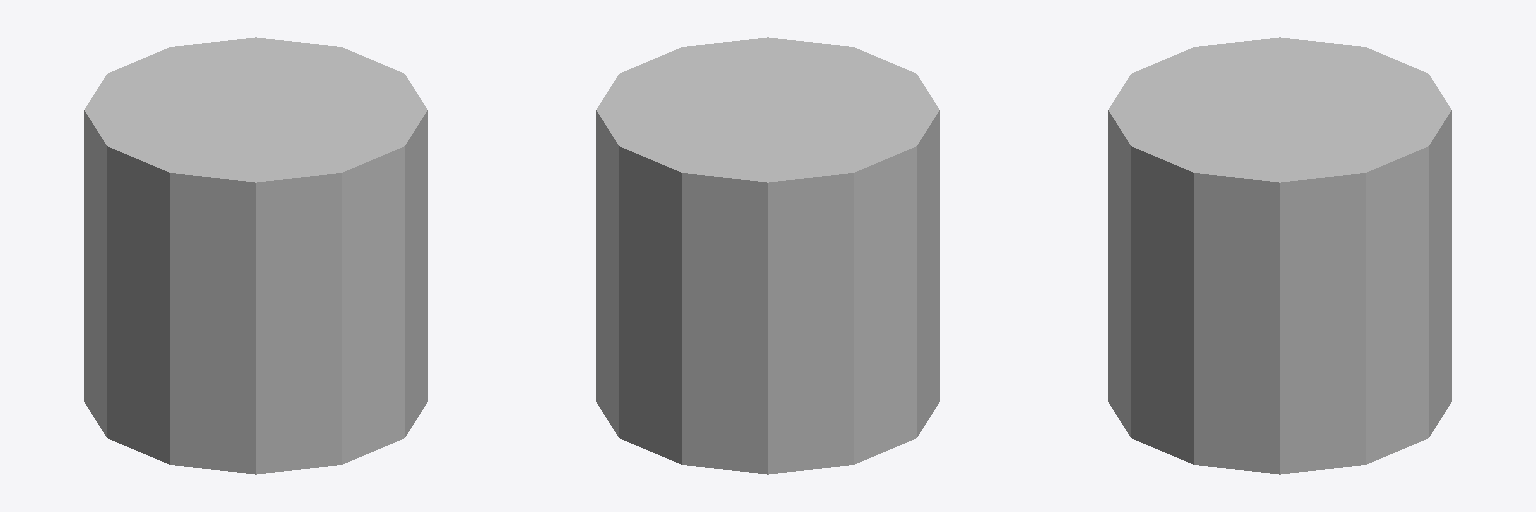
File: Marshmellow.obj
The picture shows the model from 3 angles: view 1: azimuth 30°, elevation 25°; view 2: azimuth 150°, elevation 25°; view 3: azimuth 270°, elevation 25°; orthographic projection.
Visible parts, largest first — view 1: Cylinder; view 2: Cylinder; view 3: Cylinder.
Part boxes in pixels (bbox=[...]): Cylinder: bbox=[84, 37, 427, 474]; Cylinder: bbox=[596, 37, 939, 474]; Cylinder: bbox=[1108, 37, 1451, 474].
Bounding box in the file's own units: 2 × 1.88 × 2.